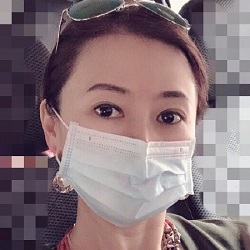mask: (51, 105, 198, 226)
